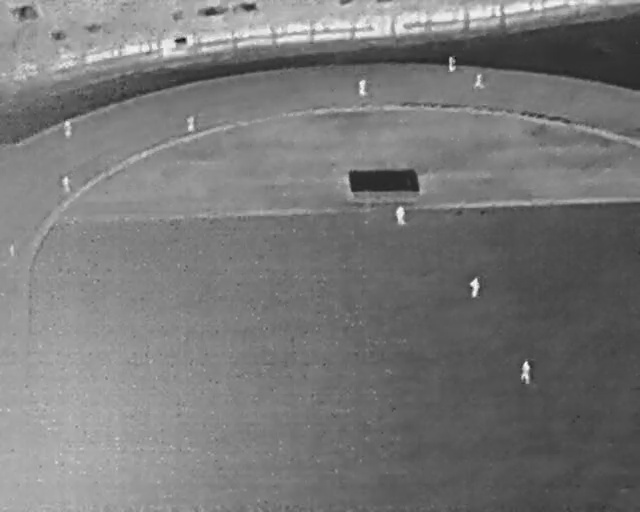Person: (521, 360, 531, 385), (470, 276, 481, 298), (395, 204, 406, 225), (358, 78, 368, 97), (474, 73, 485, 89), (64, 121, 73, 140), (448, 55, 457, 73), (186, 116, 195, 133), (62, 176, 71, 193)
